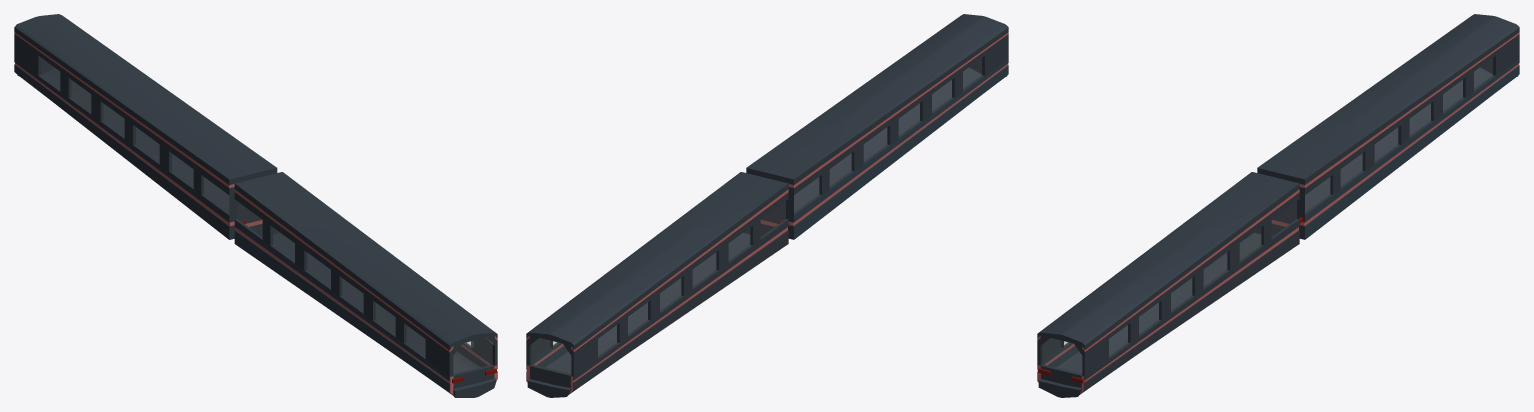
The model's file is SM_Subway.fbx.
The picture shows the model from 3 angles, left to right: view 1: azimuth 30°, elevation 25°; view 2: azimuth 150°, elevation 25°; view 3: azimuth 330°, elevation 25°; orthographic projection.
Parts seen in each view (by area): view 1: pasted__group205_pasted__pasted__pCube509; view 2: pasted__group205_pasted__pasted__pCube509; view 3: pasted__group205_pasted__pasted__pCube509.
Boxes of the visible parts, <box> form: pasted__group205_pasted__pasted__pCube509: <box>14,14,497,397</box>; pasted__group205_pasted__pasted__pCube509: <box>526,14,1008,397</box>; pasted__group205_pasted__pasted__pCube509: <box>1037,14,1519,397</box>.
Bounding box in the file's own units: 816 × 996 × 12966.
